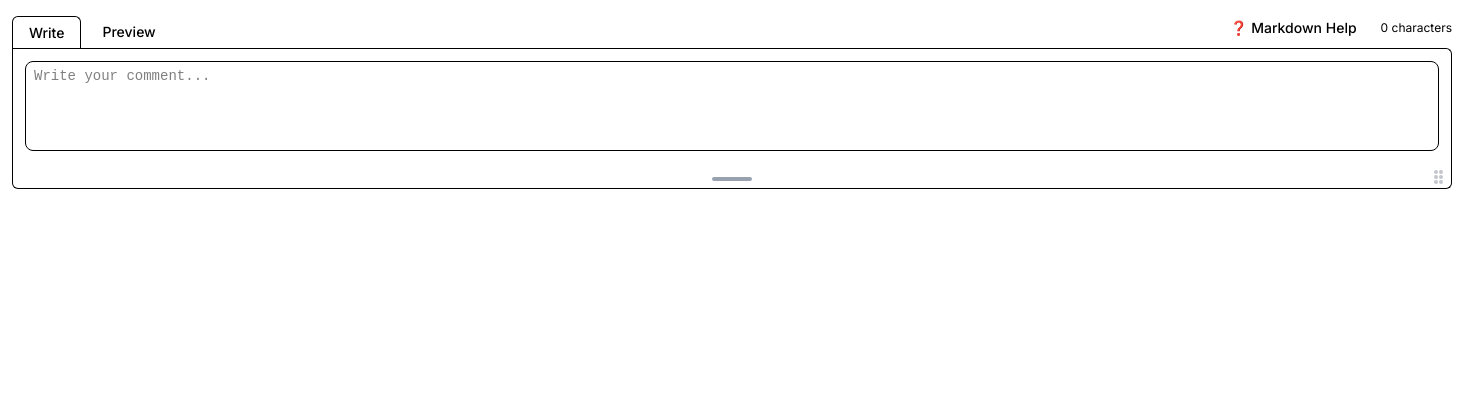
Test: CommentEditor › Markdown Help › hides help panel when help button is clicked again
// Open help
Click the button "❓ Markdown Help" at (1293,28), box [1218, 12, 1368, 44]
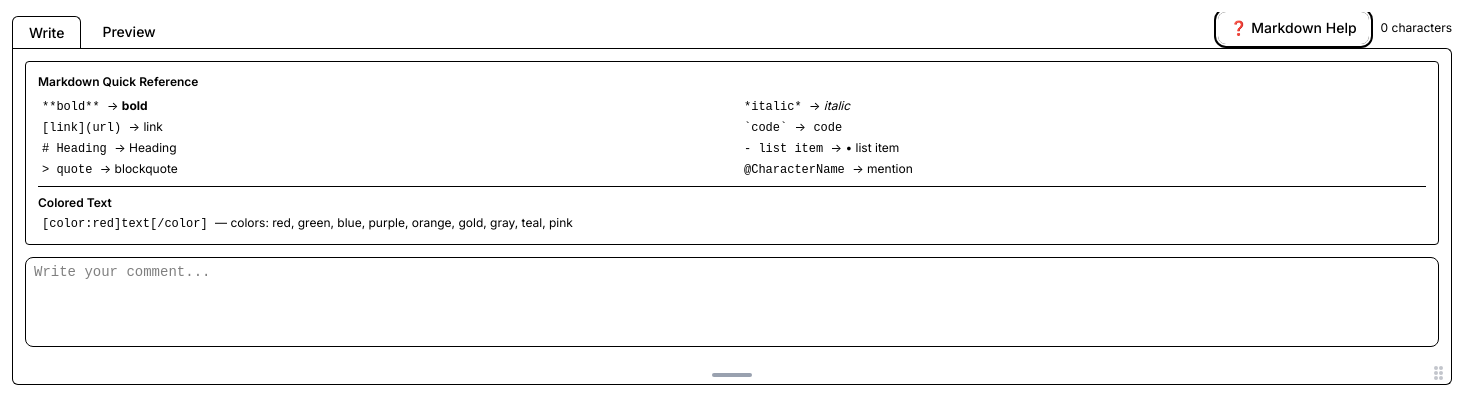
Now the text "Markdown Quick Reference" is shown, box [38, 74, 198, 89]
// Close help
Click the button "❓ Markdown Help" at (1293,28), box [1218, 12, 1368, 44]
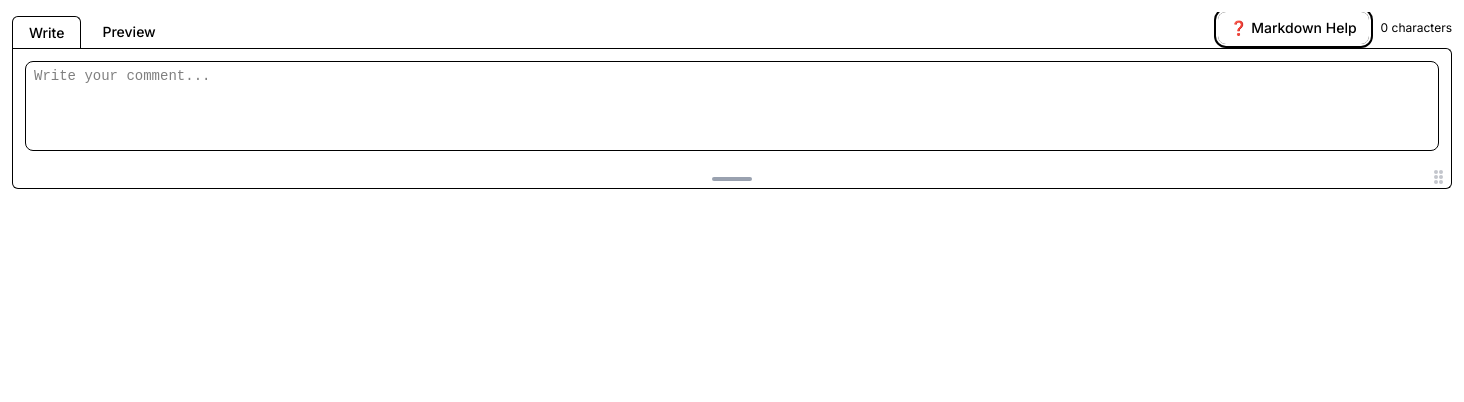
Now the text "Markdown Quick Reference" is gone
